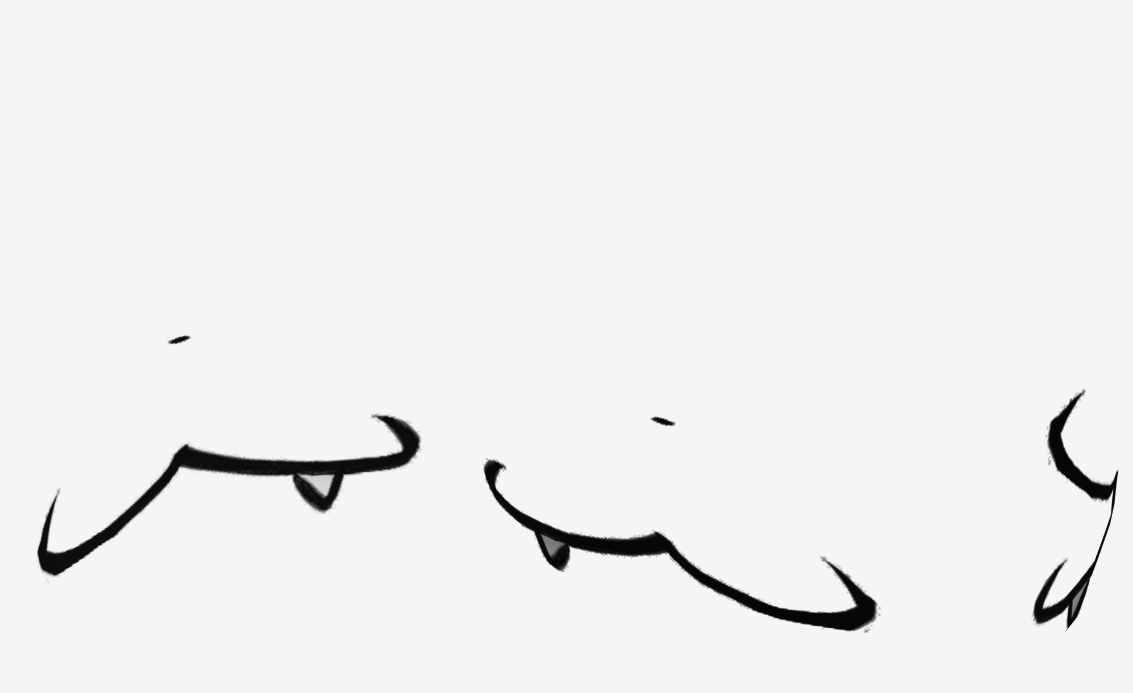
Rendered from 20-Silly-Cat-Face-mouth.glb.
3 renders of one model, left to right at view 1: azimuth 30°, elevation 25°; view 2: azimuth 150°, elevation 25°; view 3: azimuth 270°, elevation 25°, orthographic. The views are drawn at different scales.
Visible parts, largest first — view 1: 20-Silly-Cat-Face-mouth; view 2: 20-Silly-Cat-Face-mouth; view 3: 20-Silly-Cat-Face-mouth.
Part boxes in pixels (x1,y1,x2,y2): 20-Silly-Cat-Face-mouth: (36, 335, 421, 582); 20-Silly-Cat-Face-mouth: (483, 416, 880, 632); 20-Silly-Cat-Face-mouth: (1031, 389, 1118, 631).
Bounding box in the file's own units: 0.6486 × 0.7802 × 0.1712.
Materials: 1 (1 with a texture image).
